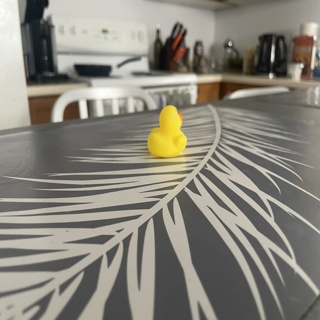duck_regular: (143, 105, 185, 153)
